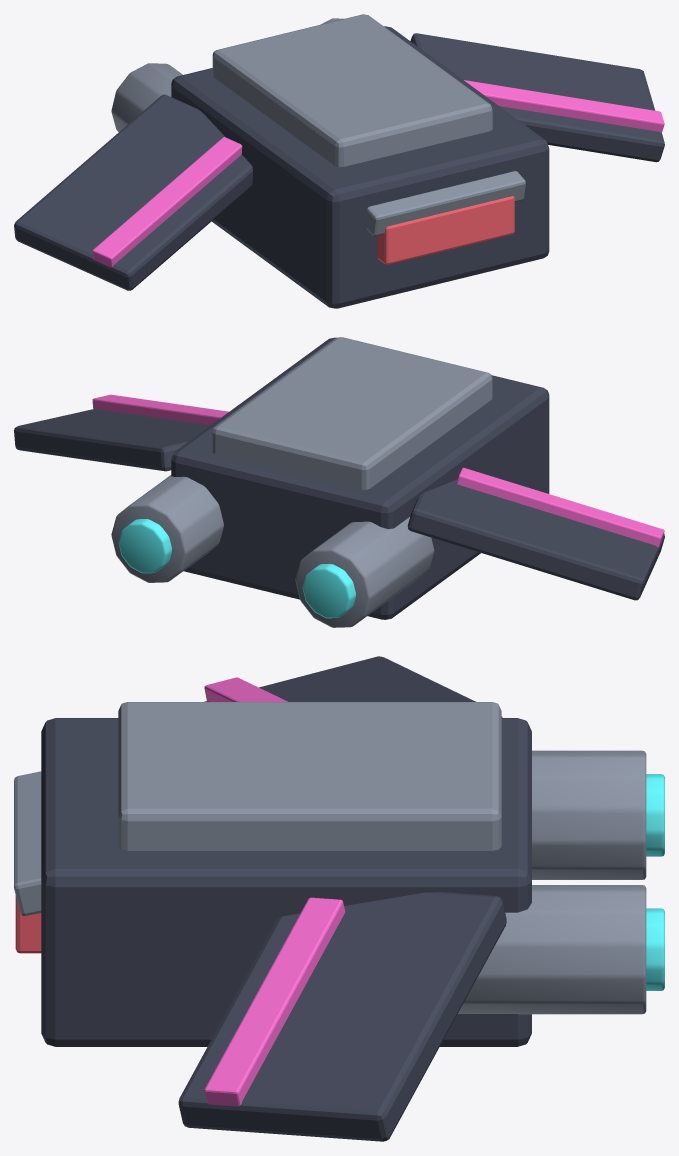
The model's file is Cyber_Drone.fbx.
3 views of the same model, one above another, from view 1: azimuth 30°, elevation 25°; view 2: azimuth 150°, elevation 25°; view 3: azimuth 270°, elevation 25° (orthographic). The views are drawn at different scales.
Parts seen in each view (by area): view 1: Drone_Chassis, Drone_TopPlate, Drone_Wing_-1, Drone_Wing_1, Drone_Visor, Drone_WingNeon_-1, Drone_Brow, Drone_WingNeon_1, Drone_Thruster_-1; view 2: Drone_Chassis, Drone_TopPlate, Drone_Wing_-1, Drone_Thruster_-1, Drone_Wing_1, Drone_Thruster_1, Drone_WingNeon_-1, Drone_ThrusterCore_-1, Drone_ThrusterCore_1, Drone_WingNeon_1; view 3: Drone_Chassis, Drone_TopPlate, Drone_Wing_1, Drone_Thruster_1, Drone_Thruster_-1, Drone_WingNeon_1, Drone_Wing_-1, Drone_Brow, Drone_ThrusterCore_-1, Drone_ThrusterCore_1, Drone_WingNeon_-1, Drone_Visor.
Part boxes in pixels (x1,y1,x2,y2): Drone_Chassis: (171, 26, 549, 308); Drone_TopPlate: (212, 14, 492, 167); Drone_Wing_-1: (14, 94, 252, 290); Drone_Wing_1: (410, 33, 664, 162); Drone_Visor: (377, 196, 514, 264); Drone_WingNeon_-1: (92, 137, 242, 267); Drone_Brow: (366, 171, 525, 236); Drone_WingNeon_1: (464, 80, 664, 132); Drone_Thruster_-1: (111, 63, 182, 131); Drone_Chassis: (171, 337, 549, 619); Drone_TopPlate: (212, 337, 492, 489); Drone_Wing_-1: (407, 479, 664, 600); Drone_Thruster_-1: (295, 517, 434, 627); Drone_Wing_1: (14, 409, 209, 471); Drone_Thruster_1: (111, 475, 223, 582); Drone_WingNeon_-1: (456, 467, 664, 547); Drone_ThrusterCore_-1: (302, 563, 355, 618); Drone_ThrusterCore_1: (118, 519, 171, 573); Drone_WingNeon_1: (92, 394, 228, 425); Drone_Chassis: (41, 718, 531, 1046); Drone_TopPlate: (118, 702, 501, 850); Drone_Wing_1: (178, 892, 506, 1141); Drone_Thruster_1: (458, 885, 646, 1014); Drone_Thruster_-1: (532, 750, 646, 879); Drone_WingNeon_1: (204, 897, 345, 1106); Drone_Wing_-1: (204, 656, 502, 717); Drone_Brow: (14, 771, 41, 915); Drone_ThrusterCore_-1: (646, 774, 664, 856); Drone_ThrusterCore_1: (646, 908, 664, 990); Drone_WingNeon_-1: (204, 677, 287, 701); Drone_Visor: (15, 895, 41, 953).
Size of the model in its own units: 2.32 by 0.51 by 1.39.
